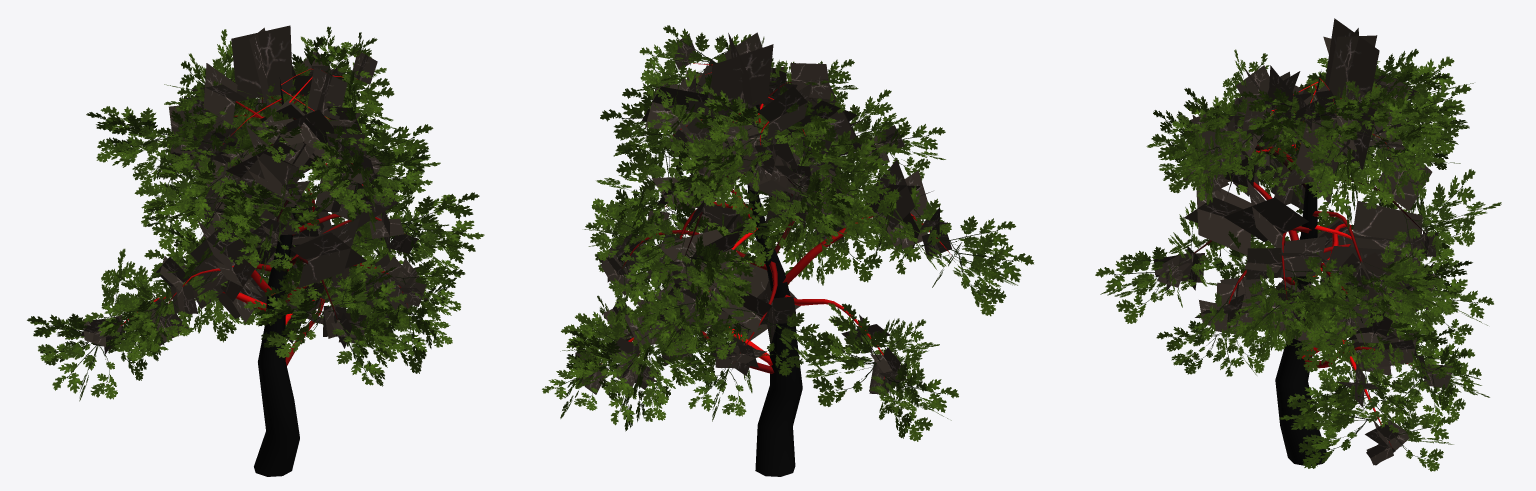
The model's file is maple3 lod0.FBX.
The picture shows the model from 3 angles, left to right: view 1: azimuth 30°, elevation 25°; view 2: azimuth 150°, elevation 25°; view 3: azimuth 270°, elevation 25°; orthographic projection. The views are drawn at different scales.
Parts seen in each view (by area): view 1: maple3; view 2: maple3; view 3: maple3.
Part boxes in pixels (x1,y1,x2,y2): maple3: (27,25,484,476); maple3: (542,25,1033,476); maple3: (1095,18,1501,471).
Size of the model in its own units: 113498 by 110981 by 101657.
